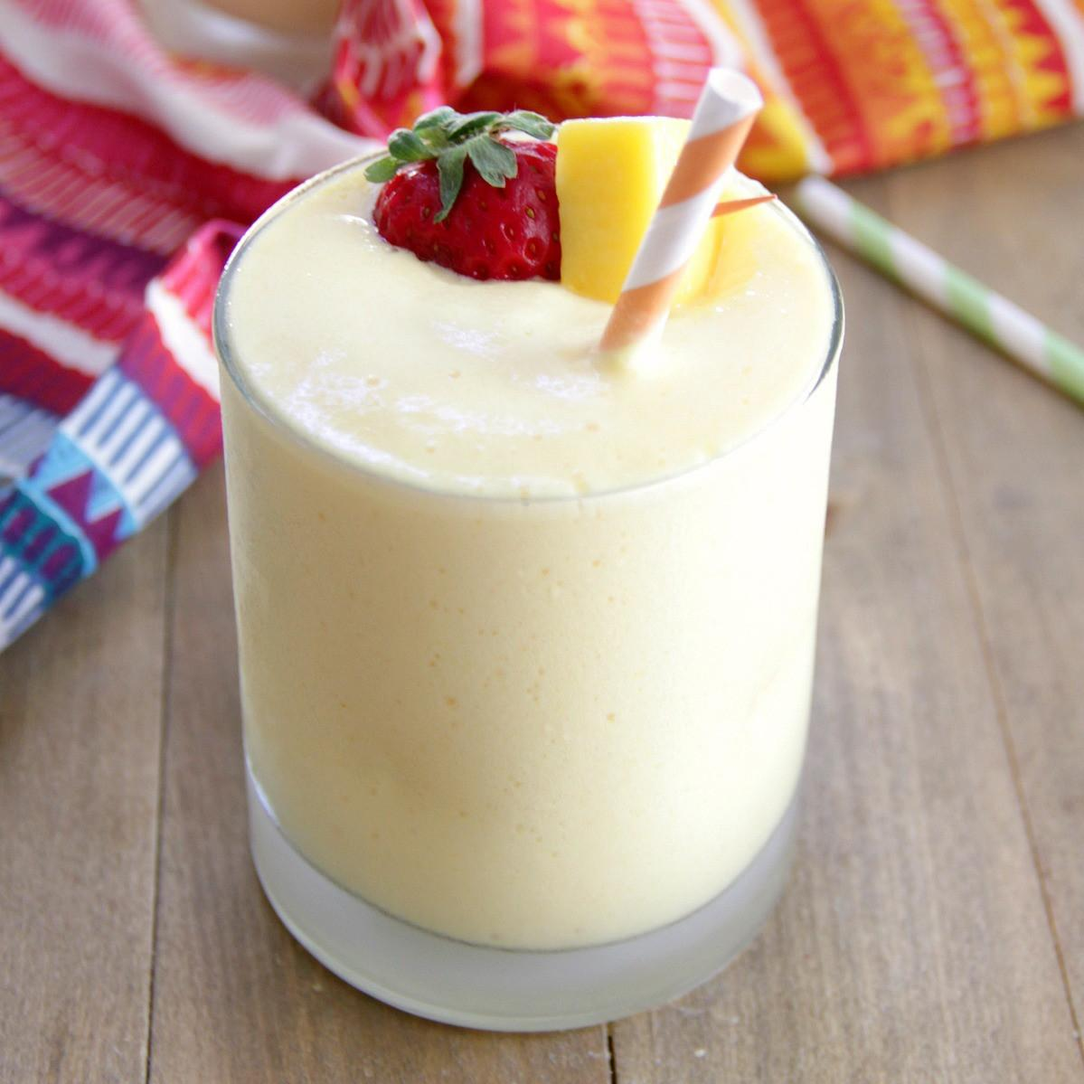Lassi: (220, 154, 845, 964)
